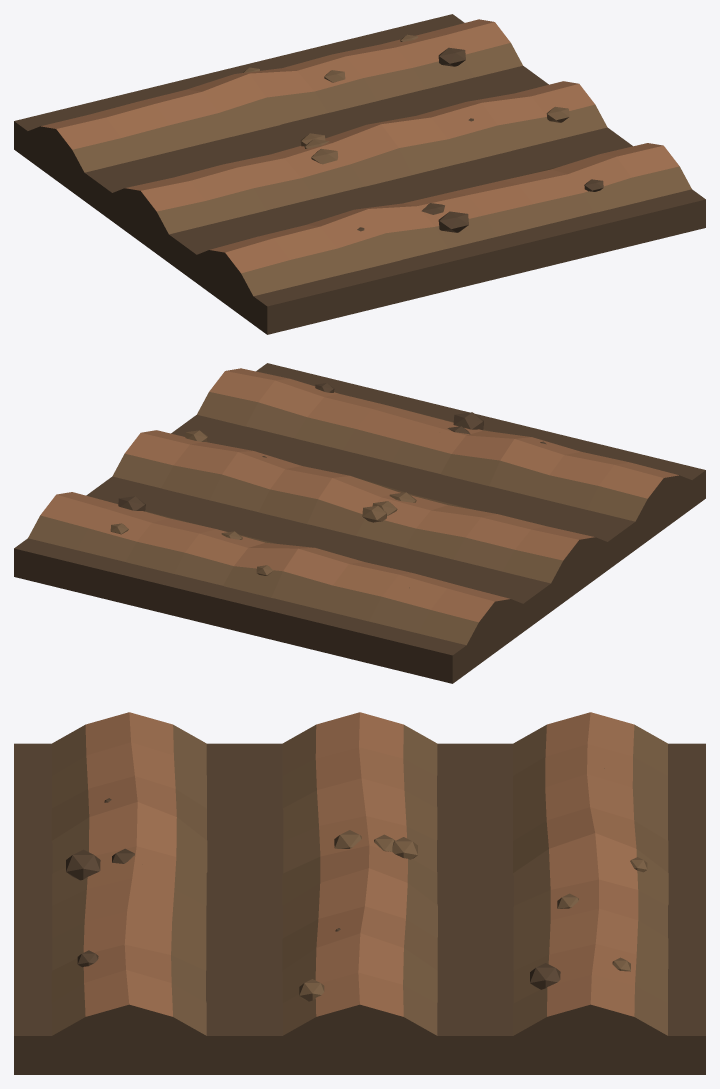
Rendered from mdvl_farm_furrow_01.glb.
3 views of the same model, one above another, from view 1: azimuth 30°, elevation 25°; view 2: azimuth 150°, elevation 25°; view 3: azimuth 270°, elevation 25° (orthographic). The views are drawn at different scales.
Visible parts, largest first — view 1: mdvl_farm_furrow_01; view 2: mdvl_farm_furrow_01; view 3: mdvl_farm_furrow_01.
Boxes of the visible parts, x1,y1,x2,y2 form: mdvl_farm_furrow_01: (14, 14, 705, 334); mdvl_farm_furrow_01: (14, 363, 705, 683); mdvl_farm_furrow_01: (14, 712, 705, 1074).
Bounding box in the file's own units: 1 × 0.1265 × 1.
Materials: 1 (1 with a texture image).
